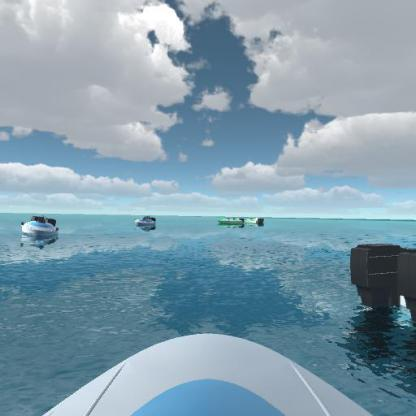usv0: (215, 214, 246, 227), (242, 213, 268, 228)
usv1: (18, 210, 64, 248), (133, 212, 160, 233)
